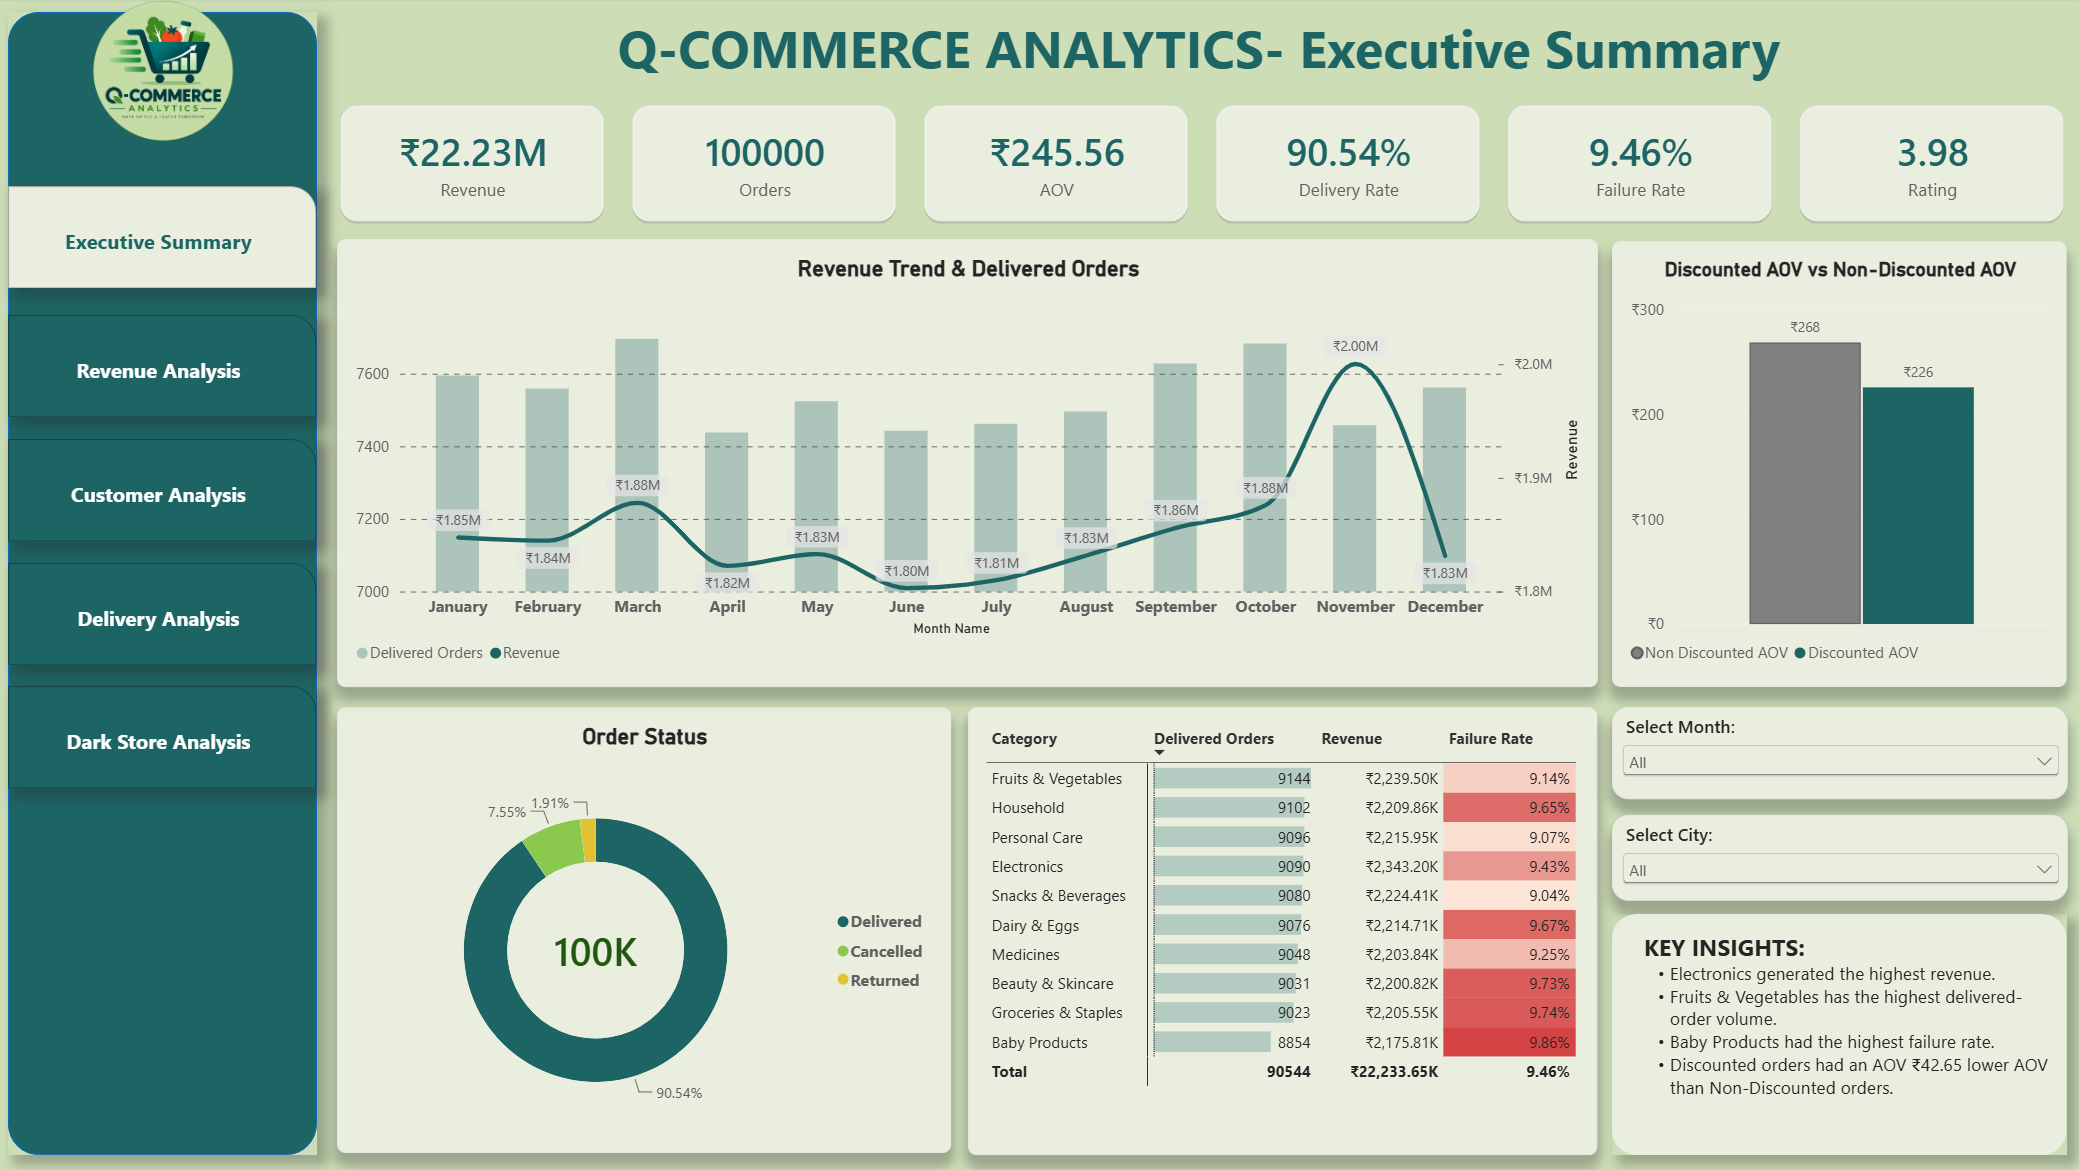

The dashboard page shown, as its layout file describes it:
{"tool":"powerbi","page":{"name":"Executive Summary","canvas":[1920,1080],"ordinal":0},"visuals":[{"type":"textbox","box":[295.7,12.5,1625.3,70.5],"z":0},{"type":"cardVisual","fields":{"Data":["Measure Table.Revenue","Measure Table.Total Orders","Measure Table.AOV","Measure Table.Delivery Rate","Measure Table.Cancellation + Return Rate","Measure Table.Average Customer Rating"]},"box":[314.1,95.9,1594.5,113.9],"z":1000},{"type":"shape","box":[11.1,12.9,284.6,1053.4],"z":2000},{"type":"donutChart","title":"Order Status","fields":{"Category":["qcommerce_2015_cleaned.order_status"],"Y":["CountNonNull(qcommerce_2015_cleaned.order_status)"]},"box":[313.8,653.4,565.6,411.1],"z":3000},{"type":"lineStackedColumnComboChart","title":"Revenue Trend & Delivered Orders","fields":{"Category":["Calendar.Year Hierarchy.Quarter","Calendar.Year Hierarchy.Month Name"],"Y":["Measure Table.Delivered Orders"],"Y2":["Measure Table.Revenue"]},"box":[314.2,222.1,1162,412.8],"z":4000},{"type":"pivotTable","fields":{"Rows":["qcommerce_2015_cleaned.category"],"Values":["Measure Table.Delivered Orders","Measure Table.Revenue","Measure Table.Cancellation + Return Rate"]},"box":[895.6,653.4,579.9,413],"z":5000},{"type":"clusteredColumnChart","title":"Discounted AOV vs Non-Discounted AOV","fields":{"Y":["Measure Table.Non Discounted AOV","Measure Table.Discounted AOV"]},"box":[1489.1,223.9,419.3,411],"z":6000},{"type":"slicer","fields":{"Values":["Calendar.Month Name"]},"box":[1488.9,653.4,419.7,84.9],"z":7000},{"type":"slicer","fields":{"Values":["qcommerce_2015_cleaned.category"]},"box":[1488.9,752.5,419.7,79.2],"z":8000},{"type":"shape","box":[1488.9,844.1,418.7,222.2],"z":9000},{"type":"textbox","box":[1518.5,859.4,376.8,193.6],"z":10000},{"type":"shape","title":"Executive Summery","box":[11.4,173.5,284.2,94.4],"z":11000},{"type":"shape","box":[11.4,292.3,284.2,94.4],"z":12000},{"type":"shape","box":[11.4,634.2,284.2,94.4],"z":13000},{"type":"shape","box":[11.4,406.3,284.2,94.4],"z":14000},{"type":"shape","box":[11.4,520.3,284.2,94.4],"z":15000},{"type":"image","box":[68.7,0,169.8,135.4],"z":15001}]}

Visuals, with their boxes in screenshot pixels (x1, y1, x2, y2), scaled from the page's 1920x1080 canvas onto the 2079x1170 screenshot:
textbox: {"x1": 320, "y1": 14, "x2": 2078, "y2": 90}
cardVisual - Measure Table.Revenue x Measure Table.Total Orders: {"x1": 340, "y1": 104, "x2": 2067, "y2": 227}
shape: {"x1": 12, "y1": 14, "x2": 320, "y2": 1155}
"Order Status" donutChart: {"x1": 340, "y1": 708, "x2": 952, "y2": 1153}
"Revenue Trend & Delivered Orders" lineStackedColumnComboChart: {"x1": 340, "y1": 241, "x2": 1598, "y2": 688}
pivotTable - qcommerce_2015_cleaned.category x Measure Table.Delivered Orders: {"x1": 970, "y1": 708, "x2": 1598, "y2": 1155}
"Discounted AOV vs Non-Discounted AOV" clusteredColumnChart: {"x1": 1612, "y1": 243, "x2": 2066, "y2": 688}
slicer - Calendar.Month Name: {"x1": 1612, "y1": 708, "x2": 2067, "y2": 800}
slicer - qcommerce_2015_cleaned.category: {"x1": 1612, "y1": 815, "x2": 2067, "y2": 901}
shape: {"x1": 1612, "y1": 914, "x2": 2066, "y2": 1155}
textbox: {"x1": 1644, "y1": 931, "x2": 2052, "y2": 1141}
"Executive Summery" shape: {"x1": 12, "y1": 188, "x2": 320, "y2": 290}
shape: {"x1": 12, "y1": 317, "x2": 320, "y2": 419}
shape: {"x1": 12, "y1": 687, "x2": 320, "y2": 789}
shape: {"x1": 12, "y1": 440, "x2": 320, "y2": 542}
shape: {"x1": 12, "y1": 564, "x2": 320, "y2": 666}
image: {"x1": 74, "y1": 0, "x2": 258, "y2": 147}
